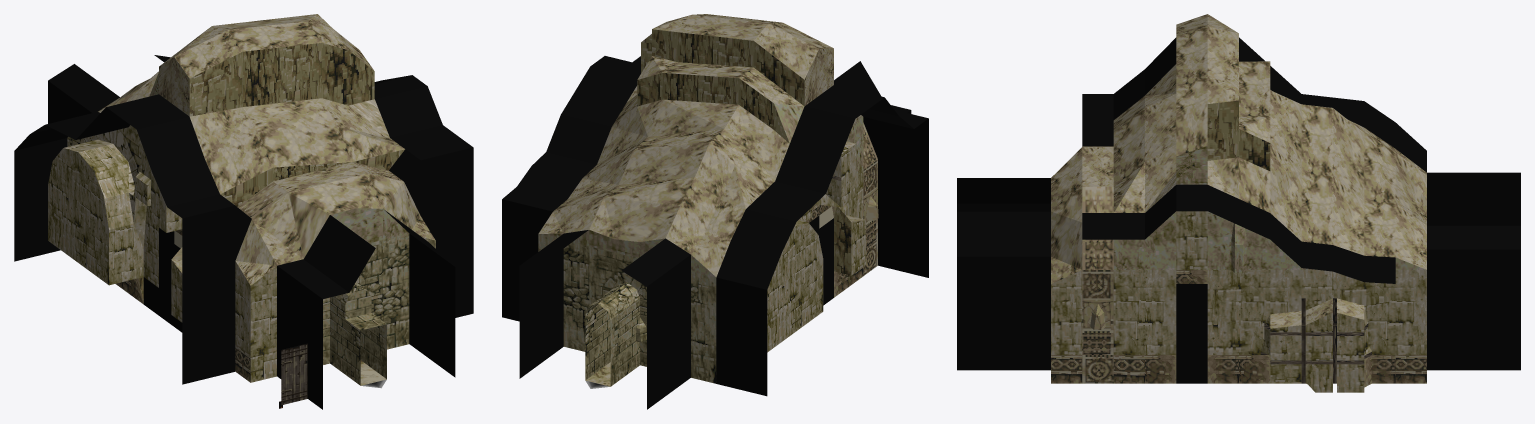
File: MAP016.obj
3 renders of one model, left to right at view 1: azimuth 30°, elevation 25°; view 2: azimuth 150°, elevation 25°; view 3: azimuth 270°, elevation 25°, orthographic. The views are drawn at different scales.
Parts seen in each view (by area): view 1: mesh_32, mesh_56, mesh_55, mesh_33, mesh_87, mesh_53, mesh_57, mesh_21, mesh_23, mesh_24, mesh_52, mesh_26 (+10 smaller); view 2: mesh_32, mesh_56, mesh_52, mesh_57, mesh_33, mesh_53, mesh_14, mesh_87, mesh_54, mesh_13, mesh_28, mesh_59 (+9 smaller); view 3: mesh_32, mesh_15, mesh_52, mesh_55, mesh_18, mesh_16, mesh_44, mesh_53, mesh_56, mesh_57, mesh_54, mesh_43 (+5 smaller).
Boxes of the visible parts, box(x1,y1,x2,y2) form: mesh_32: box(98, 14, 435, 285); mesh_56: box(76, 94, 235, 384); mesh_55: box(277, 210, 455, 409); mesh_33: box(189, 43, 404, 206); mesh_87: box(48, 139, 143, 285); mesh_53: box(374, 75, 473, 317); mesh_57: box(14, 112, 251, 261); mesh_21: box(323, 240, 386, 385); mesh_23: box(383, 233, 435, 349); mesh_24: box(250, 266, 276, 382); mesh_52: box(48, 55, 170, 123); mesh_26: box(128, 125, 250, 354); mesh_32: box(538, 14, 833, 277); mesh_56: box(775, 85, 928, 277); mesh_52: box(519, 230, 690, 409); mesh_57: box(716, 117, 877, 396); mesh_33: box(637, 29, 804, 143); mesh_53: box(502, 56, 640, 321); mesh_14: box(538, 234, 716, 383); mesh_87: box(767, 220, 823, 352); mesh_54: box(517, 61, 640, 198); mesh_13: box(585, 246, 646, 366); mesh_28: box(804, 48, 877, 297); mesh_59: box(585, 322, 639, 386); mesh_32: box(1051, 14, 1426, 283); mesh_15: box(1051, 211, 1426, 354); mesh_52: box(1427, 172, 1520, 370); mesh_55: box(957, 178, 1050, 370); mesh_18: box(1051, 239, 1426, 383); mesh_16: box(1113, 146, 1426, 269); mesh_44: box(1270, 313, 1364, 392); mesh_53: box(1082, 184, 1395, 283); mesh_56: box(1082, 37, 1301, 120); mesh_57: box(1082, 94, 1426, 172); mesh_54: box(1113, 213, 1364, 281); mesh_43: box(1176, 284, 1207, 383).
Bounding box in the file's own units: 141 × 133 × 230.
15 materials, 15 textured.
